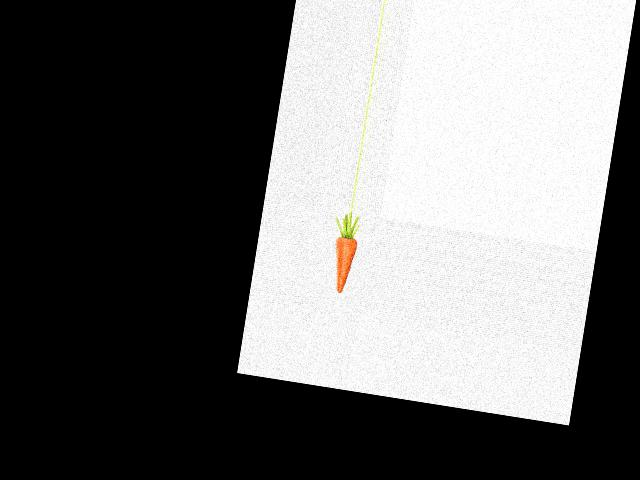carrot: (324, 230, 360, 296)
